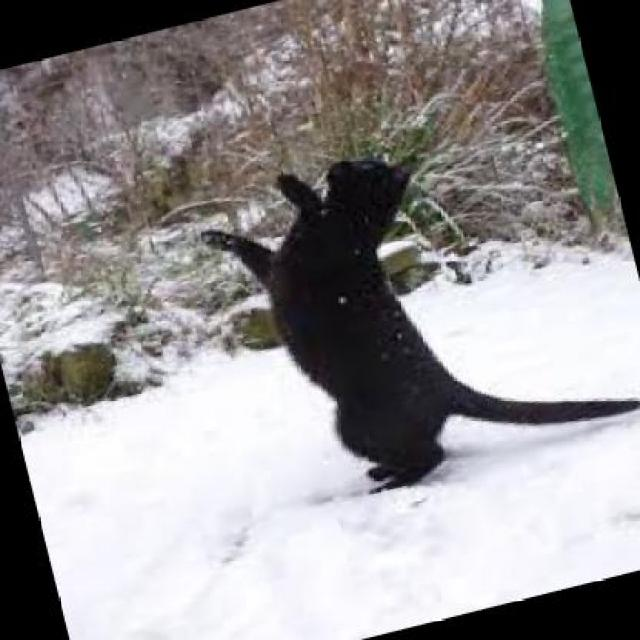animals: (215, 94, 634, 526)
